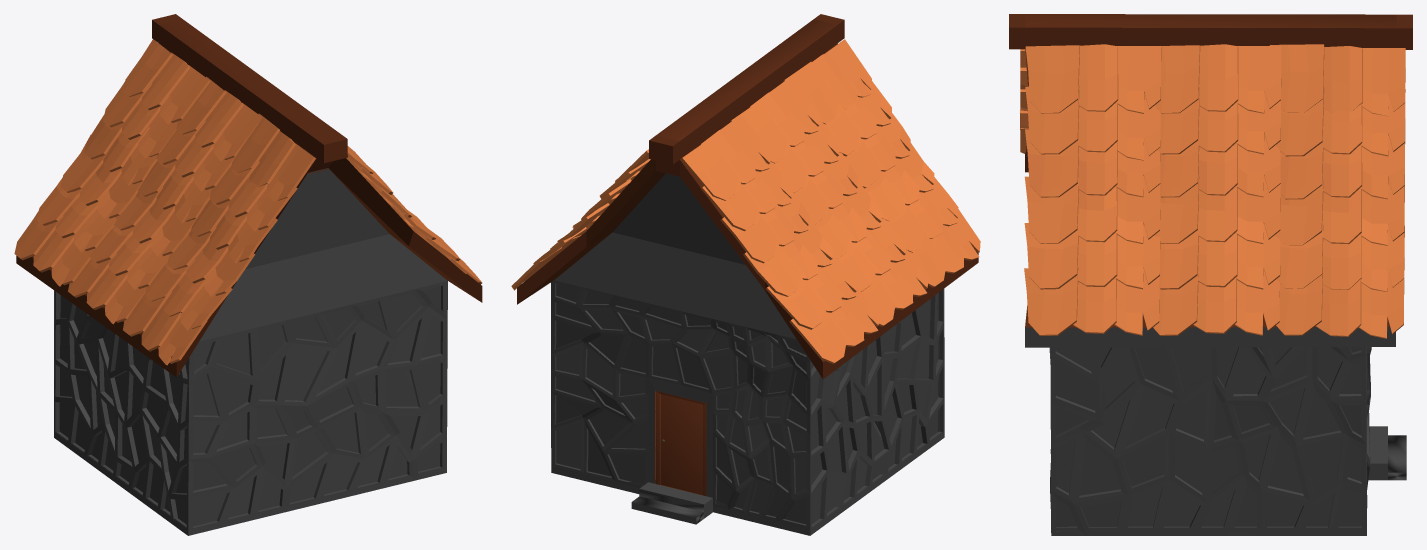
The model's file is rumah.fbx.
3 views of the same model, side by side, from view 1: azimuth 30°, elevation 25°; view 2: azimuth 150°, elevation 25°; view 3: azimuth 270°, elevation 25° (orthographic). The views are drawn at different scales.
Parts seen in each view (by area): view 1: Plane.024; view 2: Plane.024, Door, Frame 1; view 3: Plane.024.
Part boxes in pixels (x1,y1,x2,y2): Plane.024: (14,14,482,535); Plane.024: (511,14,980,535); Door: (660,394,703,495); Frame 1: (655,391,660,484); Plane.024: (1009,14,1412,535).
Size of the model in its own units: 3493 by 3840 by 3185.
